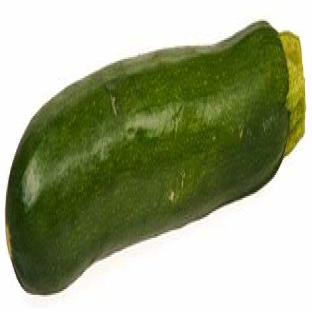Zucchini: (6, 23, 304, 292)
